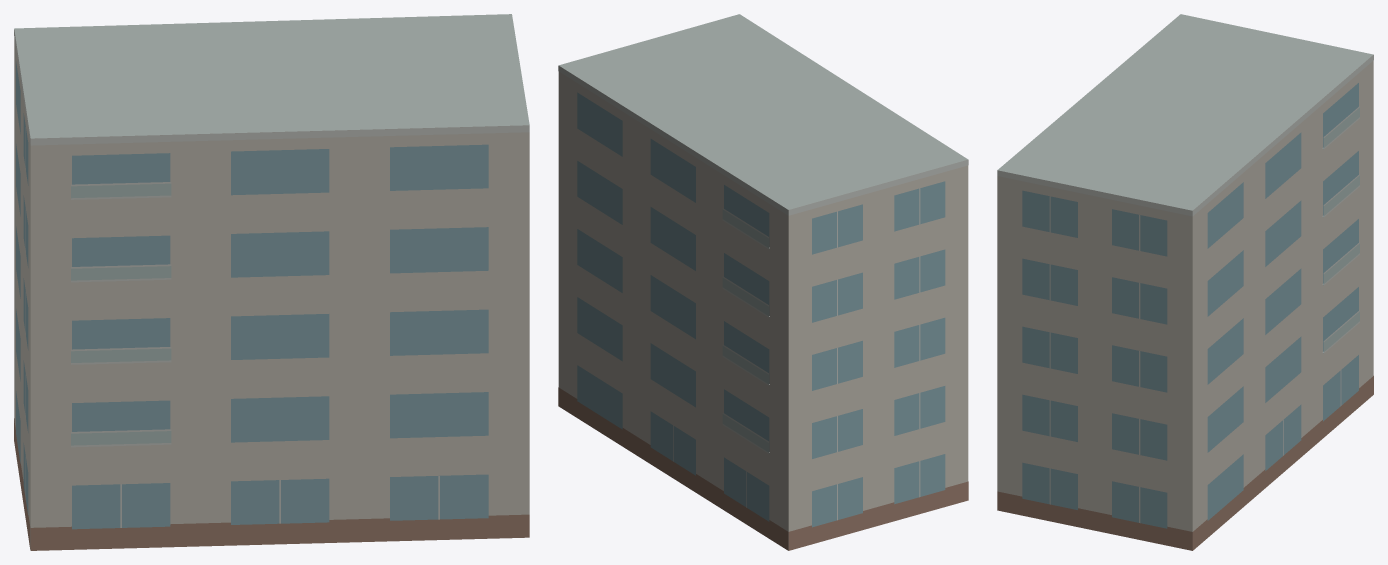
The model's file is survey-upis-32852745.glb.
The picture shows the model from 3 angles, left to right: view 1: azimuth 30°, elevation 25°; view 2: azimuth 150°, elevation 25°; view 3: azimuth 270°, elevation 25°; orthographic projection. The views are drawn at different scales.
Parts seen in each view (by area): view 1: survey-upis-32852745.tmp; view 2: survey-upis-32852745.tmp; view 3: survey-upis-32852745.tmp.
Part boxes in pixels (<box>): survey-upis-32852745.tmp: <box>14,14,529,550</box>; survey-upis-32852745.tmp: <box>558,14,968,550</box>; survey-upis-32852745.tmp: <box>997,14,1373,550</box>.
Bounding box in the file's own units: 17.87 × 14.4 × 14.45.
